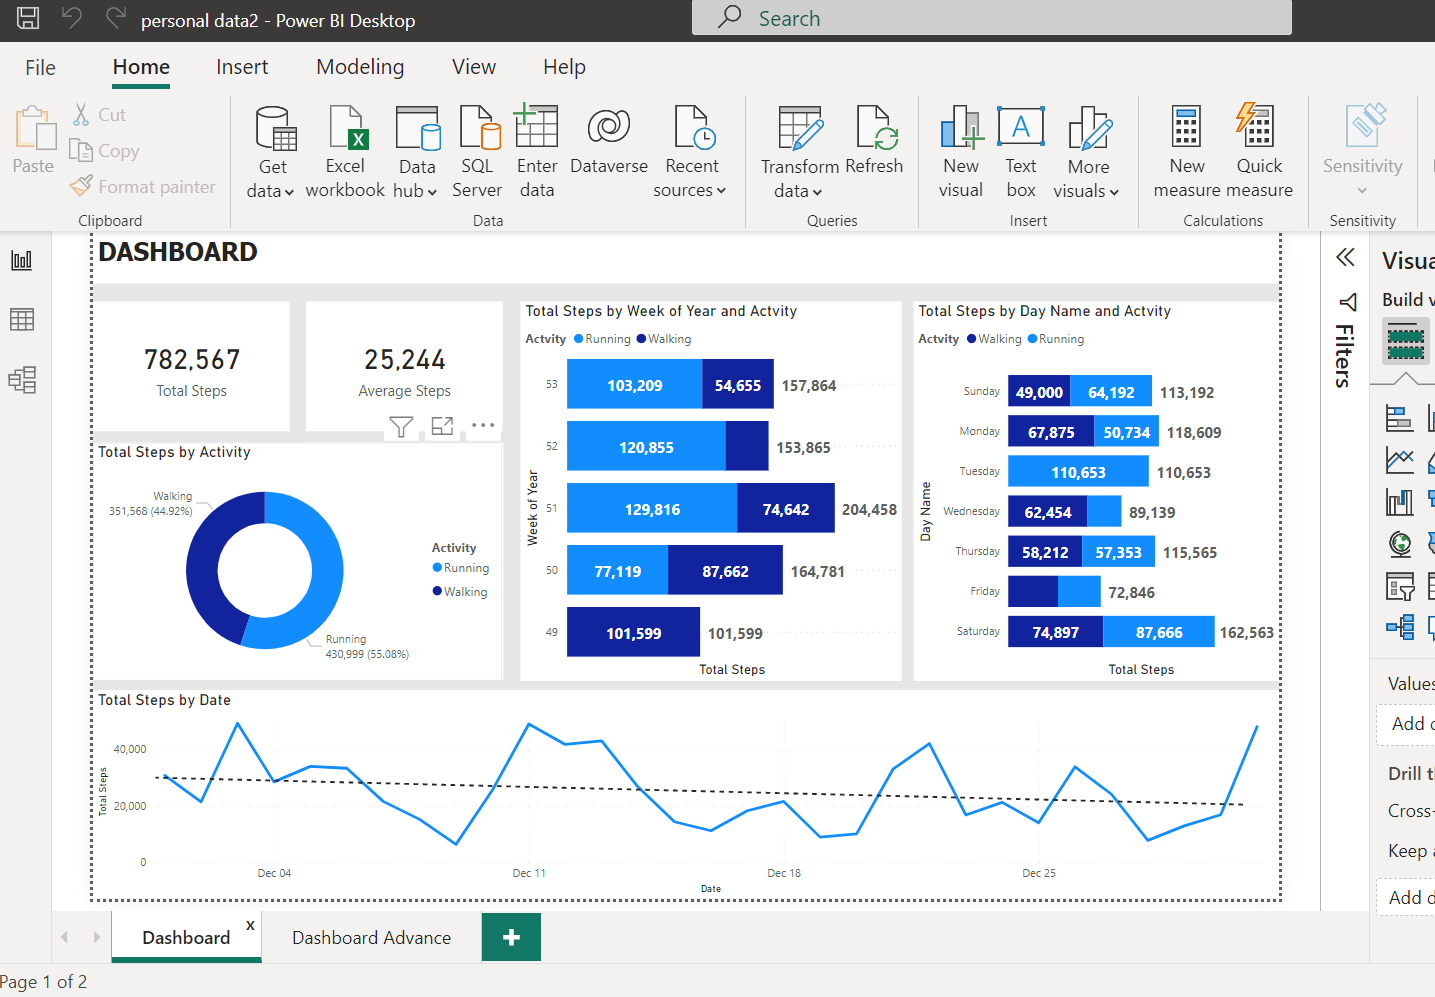

Layout of this report page (visuals, bound fields, positions):
{"tool":"powerbi","page":{"name":"Dashboard","canvas":[1280,720],"ordinal":0},"visuals":[{"type":"textbox","box":[0,0,1279.4,56.7],"z":0},{"type":"card","fields":{"Values":["Basic Calculations.Total Steps"]},"box":[0,75.6,212,140.1],"z":1000},{"type":"card","fields":{"Values":["Basic Calculations.Average Steps"]},"box":[230.4,75.6,212,140.1],"z":2000},{"type":"donutChart","fields":{"Y":["Basic Calculations.Total Steps"],"Series":["DIM_Activity.ActvityName"]},"box":[0,228.6,442.4,256.2],"z":3000},{"type":"lineChart","fields":{"Y":["Basic Calculations.Total Steps"],"Category":["FACT_Activity.Date"]},"box":[0,495.1,1279.4,224.9],"z":4000},{"type":"barChart","fields":{"Category":["DIM_Date.Week of Year"],"Y":["Basic Calculations.Total Steps"],"Series":["DIM_Activity.ActvityName"]},"box":[460.9,75.6,411.1,409.3],"z":5000},{"type":"barChart","fields":{"Y":["Basic Calculations.Total Steps"],"Series":["DIM_Activity.ActvityName"],"Category":["DIM_Date.Day Name","DIM_Date.Day of Week"]},"box":[884.9,75.6,394.5,409.3],"z":6000}]}

Visuals, with their boxes on the page's 1280x720 design canvas (x1, y1, x2, y2). These are canvas units, not pixel positions in the 1435x997 screenshot, which may show the page scaled, cropped or inside an application window:
textbox: x1=0 y1=0 x2=1279 y2=57
card - Basic Calculations.Total Steps: x1=0 y1=76 x2=212 y2=216
card - Basic Calculations.Average Steps: x1=230 y1=76 x2=442 y2=216
donutChart - Basic Calculations.Total Steps x DIM_Activity.ActvityName: x1=0 y1=229 x2=442 y2=485
lineChart - Basic Calculations.Total Steps x FACT_Activity.Date: x1=0 y1=495 x2=1279 y2=720
barChart - DIM_Date.Week of Year x Basic Calculations.Total Steps: x1=461 y1=76 x2=872 y2=485
barChart - Basic Calculations.Total Steps x DIM_Activity.ActvityName: x1=885 y1=76 x2=1279 y2=485
